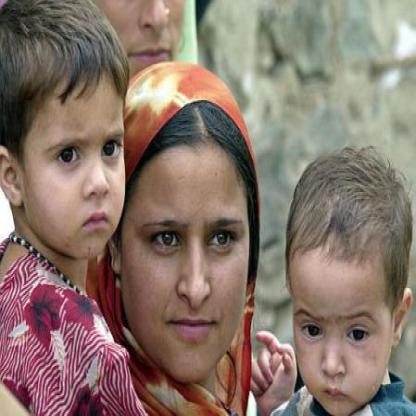face: (120, 76, 257, 384), (13, 2, 137, 263)
